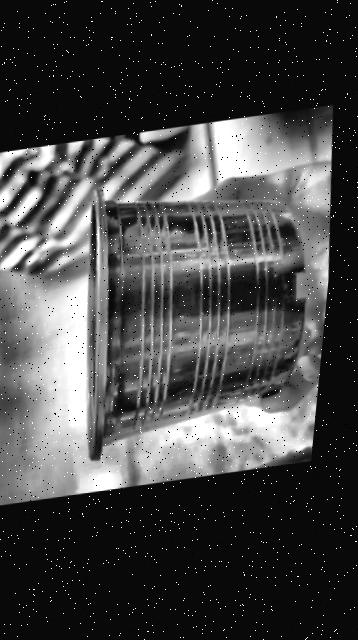pot: (88, 189, 305, 458)
